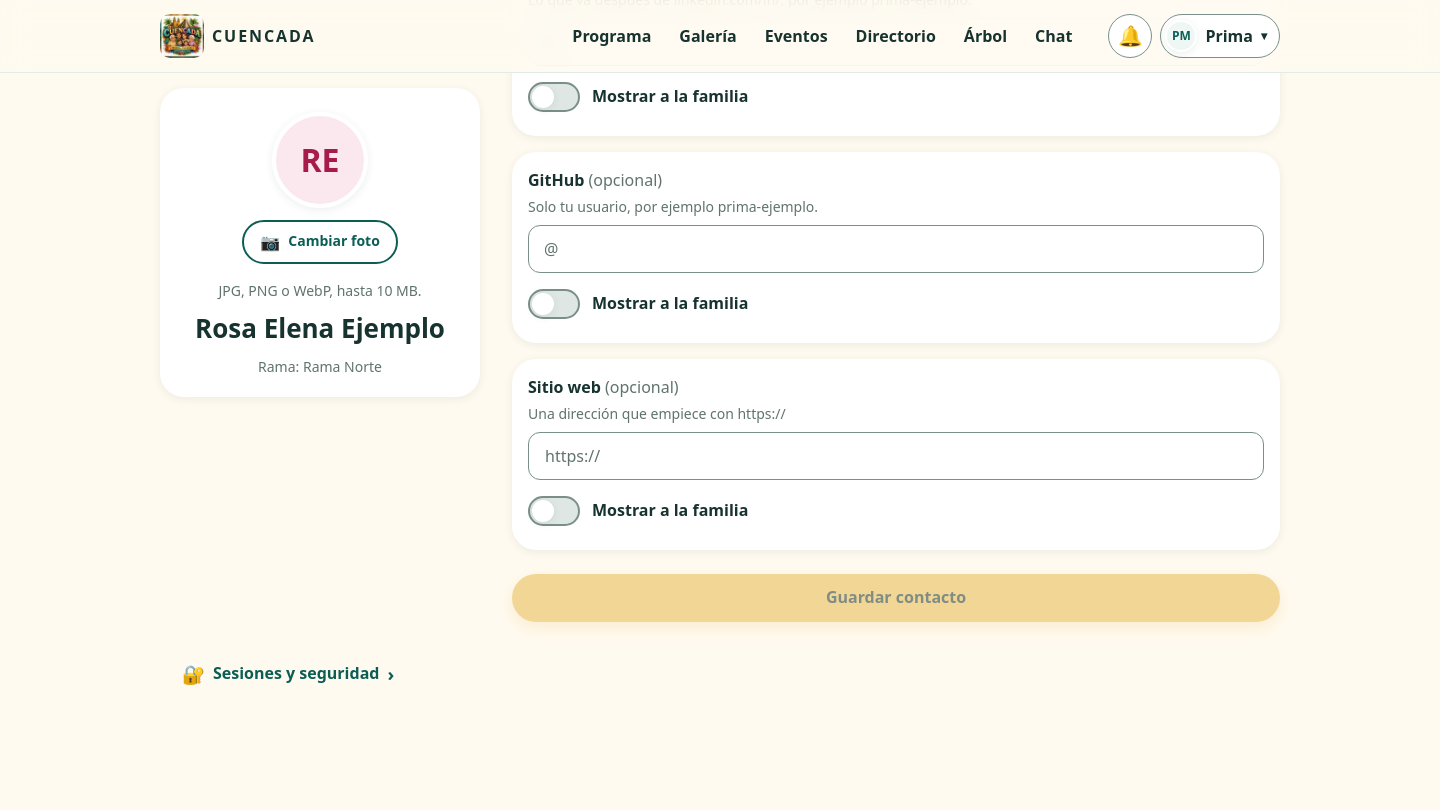
Test case: ContactSection › warns softly about a website on a bare IP or a private name, but still saves it
(page scrolled)
Type "https://192.168.1.20/fotos" into the field labelled "Sitio web (opcional)". click: (896, 456)
box: [528,432,1264,480]
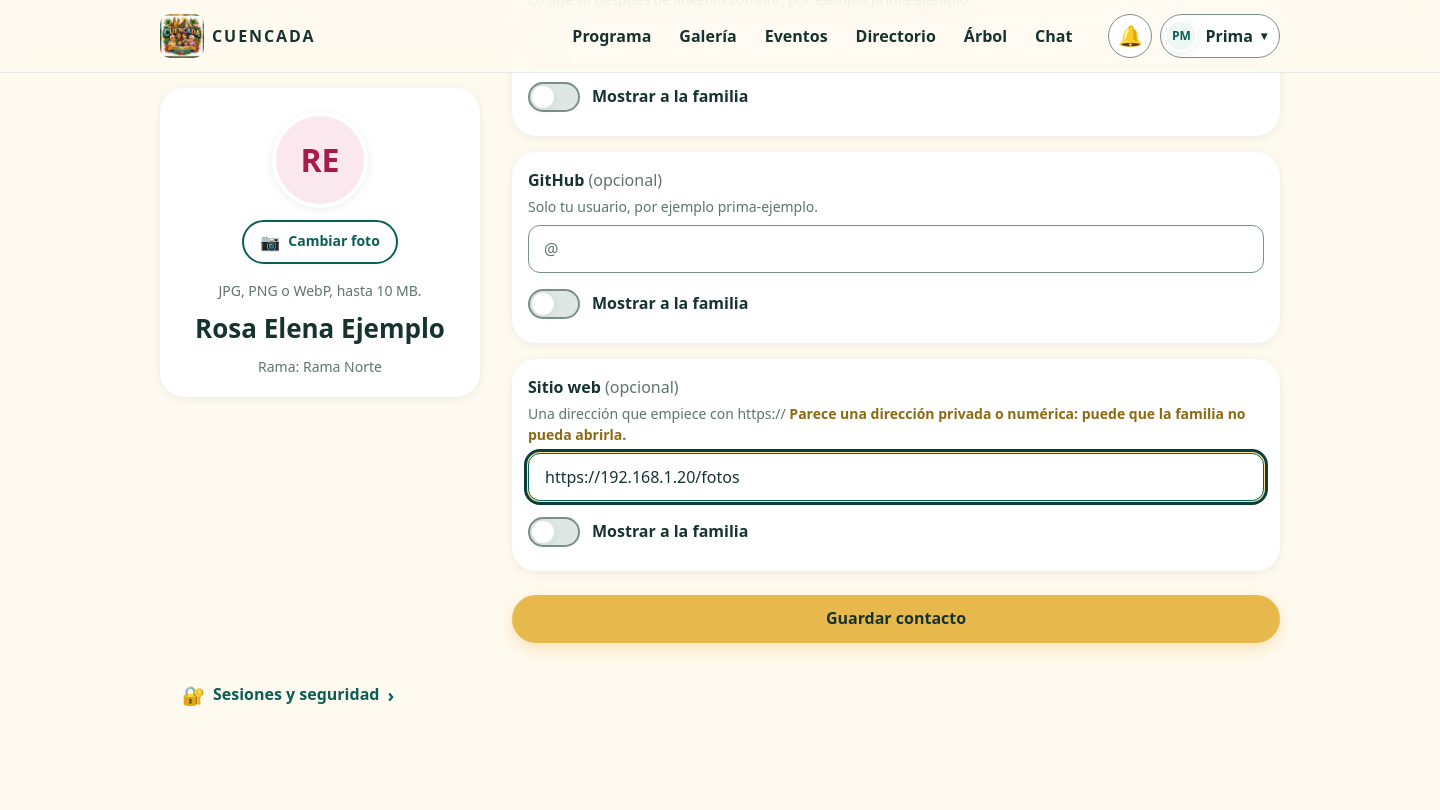
Click the button "Guardar contacto". click: (896, 619)
box: [512,595,1280,643]
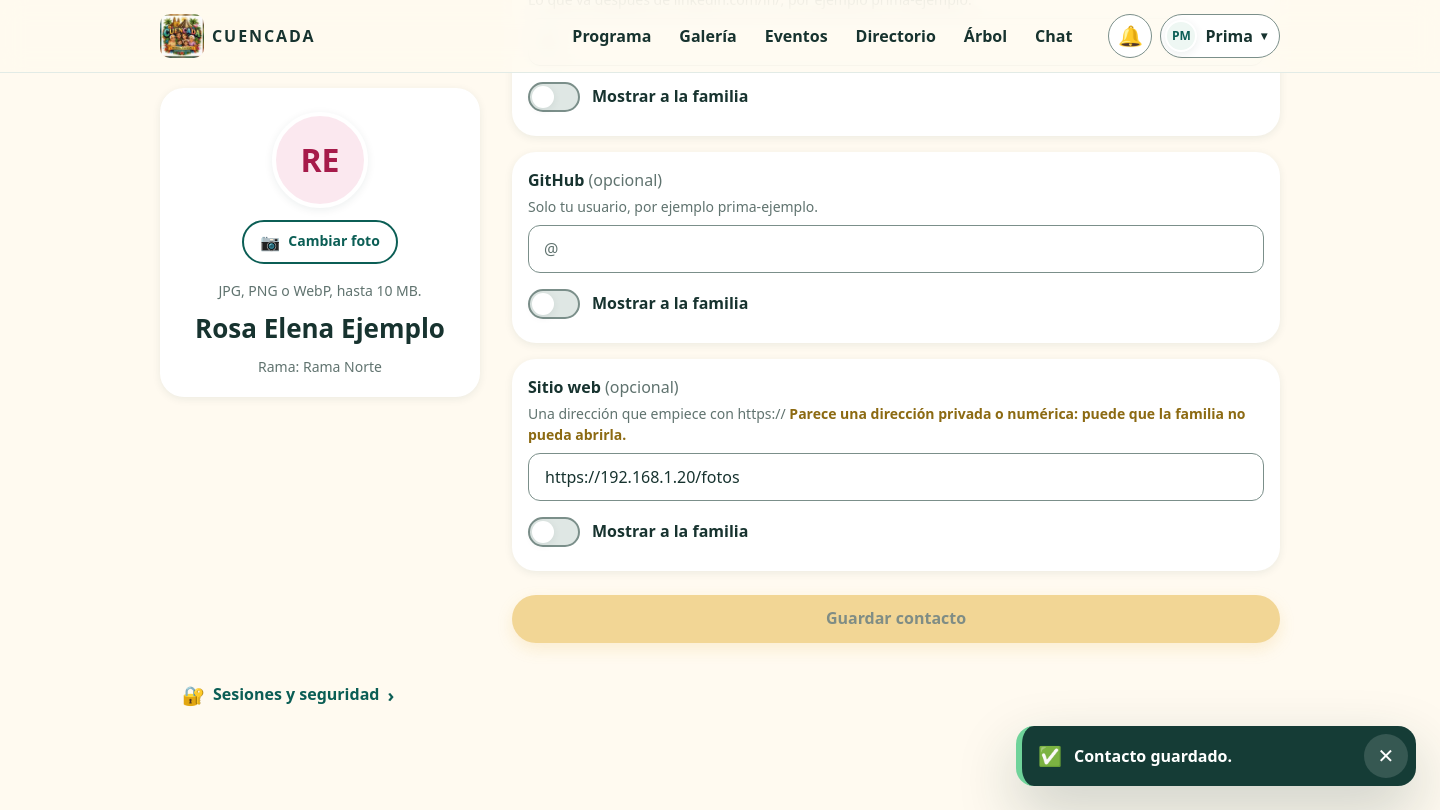
expect the text "Contacto guardado." is shown: met, box [1074,745,1232,767]
